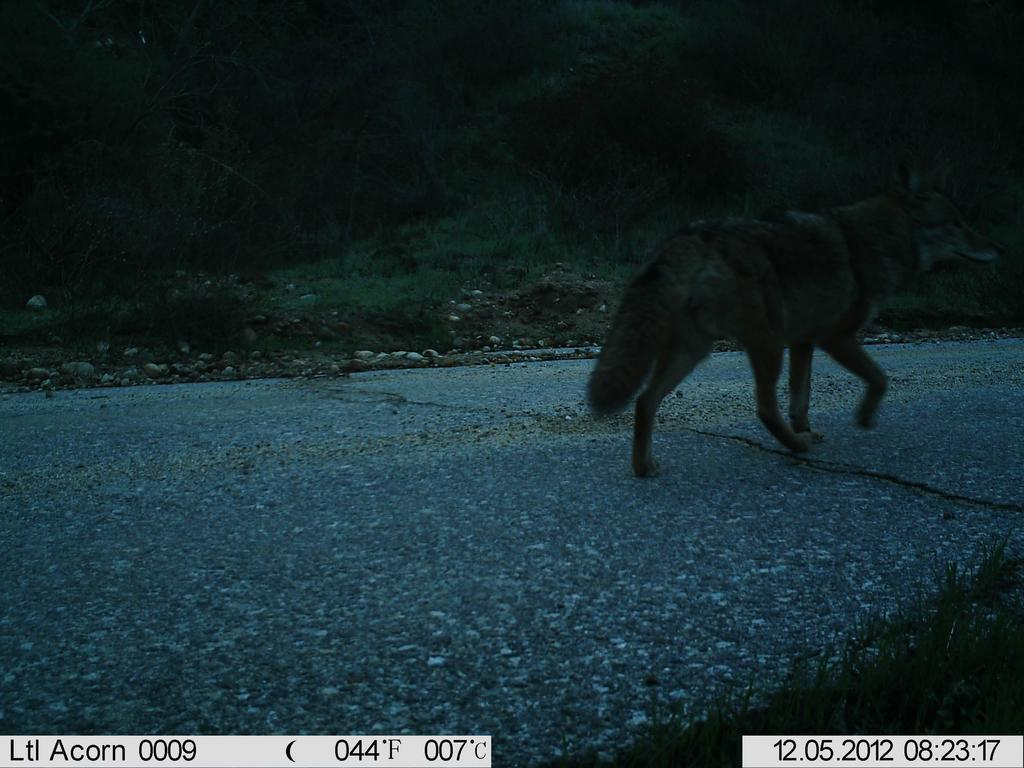coyote: (578, 155, 961, 481)
